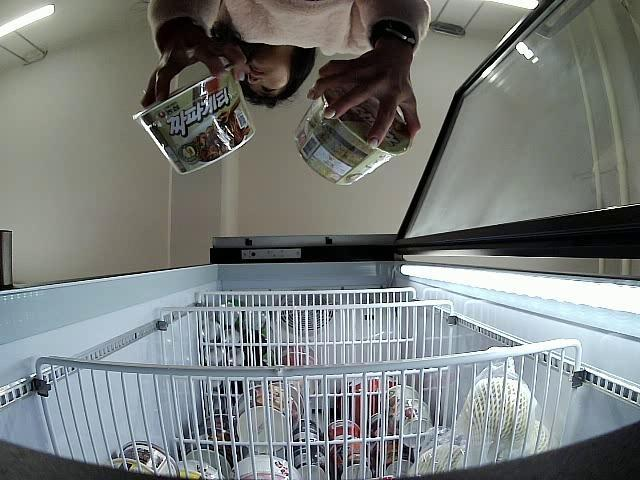03_chapagetti_L: (133, 64, 255, 176), (294, 90, 412, 186)
